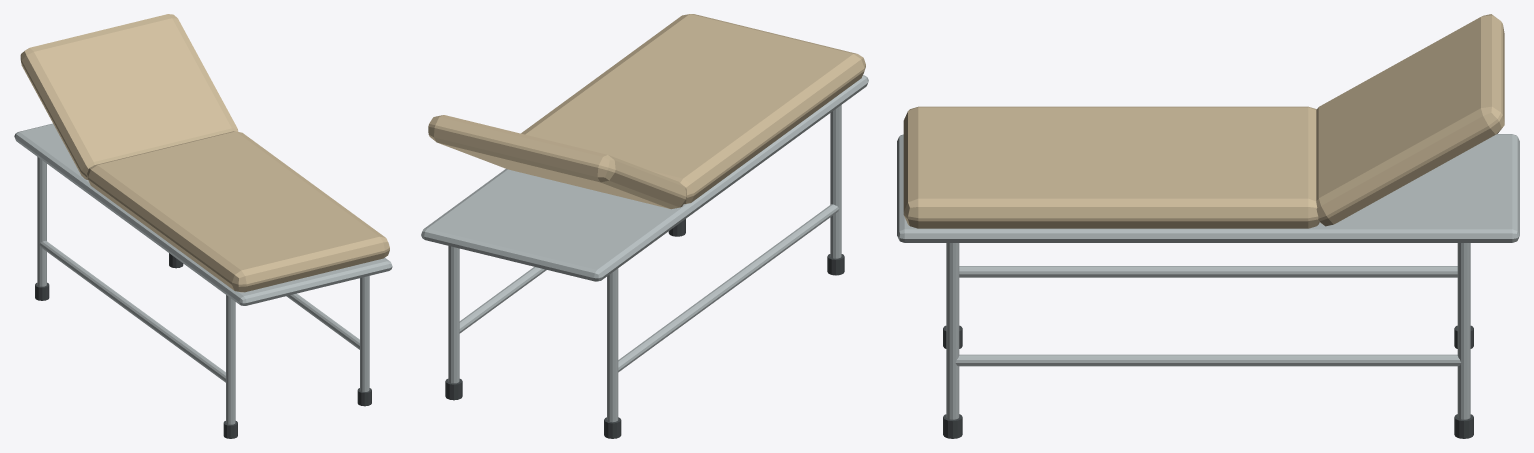
File: examination_couch_starter.glb
The picture shows the model from 3 angles, left to right: view 1: azimuth 30°, elevation 25°; view 2: azimuth 150°, elevation 25°; view 3: azimuth 270°, elevation 25°; orthographic projection. The views are drawn at different scales.
Parts seen in each view (by area): view 1: STATIC_beige.006, MOVING_backrest, STATIC_metal.018, STATIC_rubber.021; view 2: STATIC_beige.006, STATIC_metal.018, MOVING_backrest, STATIC_rubber.021; view 3: STATIC_beige.006, STATIC_metal.018, MOVING_backrest, STATIC_rubber.021.
Boxes of the visible parts, x1,y1,x2,y2 form: STATIC_beige.006: (87, 131, 389, 292); MOVING_backrest: (20, 14, 238, 179); STATIC_metal.018: (14, 123, 392, 424); STATIC_rubber.021: (35, 253, 371, 438); STATIC_beige.006: (521, 14, 865, 204); STATIC_metal.018: (421, 75, 868, 422); MOVING_backrest: (428, 115, 686, 209); STATIC_rubber.021: (445, 219, 844, 438); STATIC_beige.006: (903, 106, 1319, 228); STATIC_metal.018: (897, 134, 1519, 419); MOVING_backrest: (1316, 14, 1504, 226); STATIC_rubber.021: (943, 325, 1473, 438).
Bounding box in the file's own units: 0.75 × 1.11 × 1.9.
